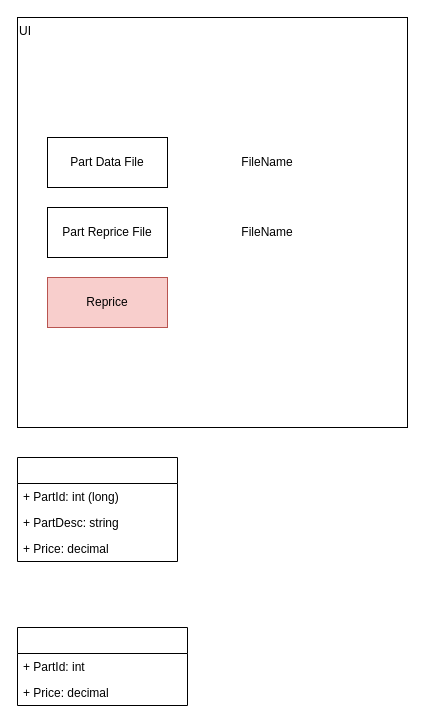
Image size: 425x726. Some labels were removed from this diagram. Here are the shapes that lost their labels. From the top down, the box of each, then its label:
(16, 456, 178, 562): PartData
(16, 626, 188, 706): Reprices
